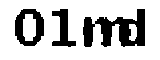0: (13, 7, 48, 47)
1: (51, 7, 79, 48)
d: (119, 5, 152, 51)
n: (85, 13, 115, 50)
